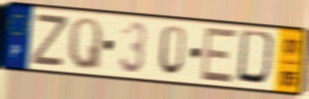0: (156, 24, 187, 78)
3: (119, 20, 147, 77)
D: (235, 28, 279, 89)
E: (199, 25, 240, 85)
Q: (66, 15, 104, 73)
Z: (28, 13, 71, 69)
